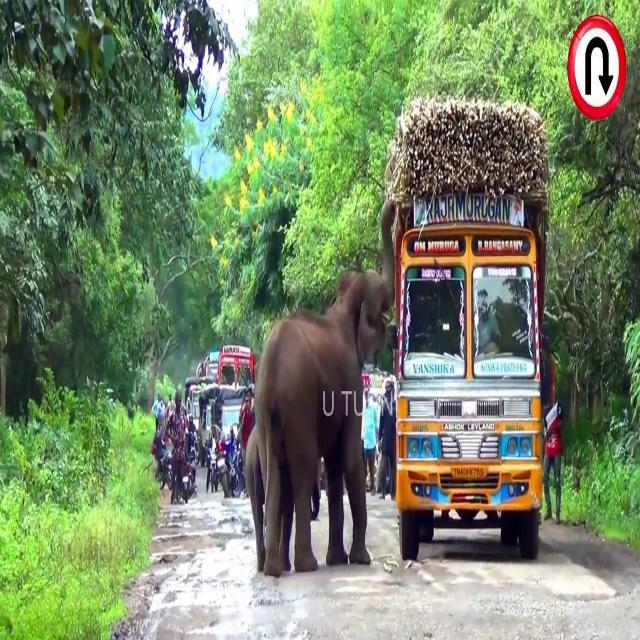Elephant: (248, 266, 392, 578)
